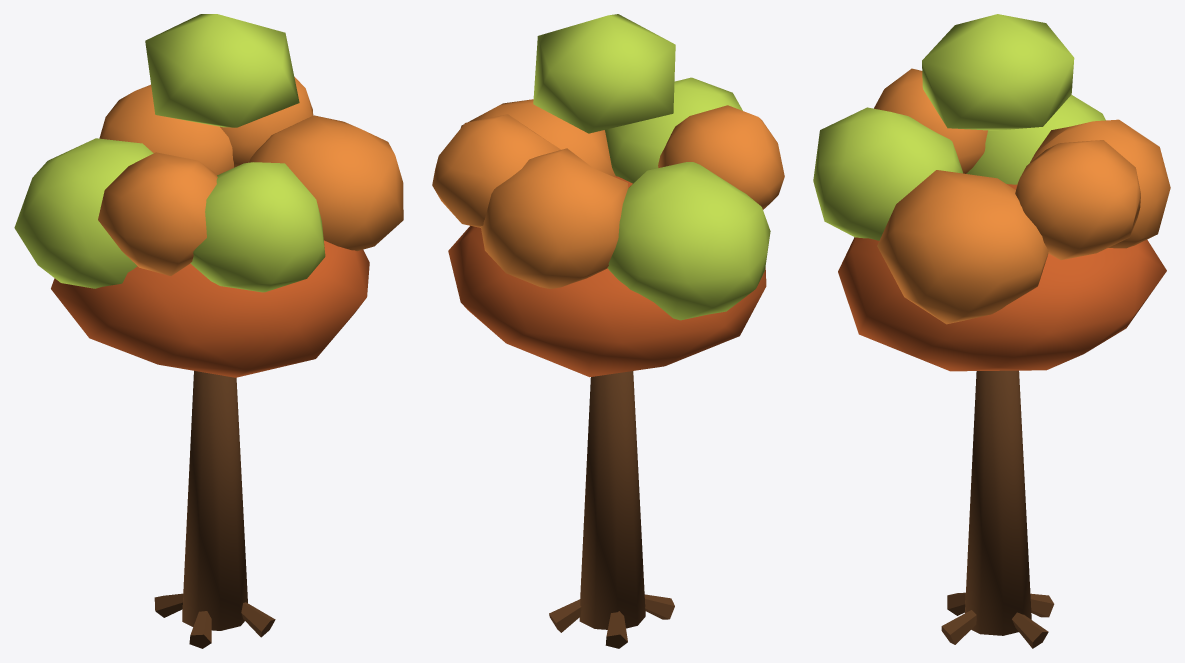
Rendered from hd_maple.gltf.
3 views of the same model, side by side, from view 1: azimuth 30°, elevation 25°; view 2: azimuth 150°, elevation 25°; view 3: azimuth 270°, elevation 25° (orthographic).
Visible parts, largest first — view 1: canopyDark, crown, trunk, can3, can0, can1, can5, can2, can4, root2, root3; view 2: canopyDark, can0, can2, trunk, crown, can5, can4, can3, can1, root1, root0, root2; view 3: canopyDark, can1, crown, trunk, can3, can4, can2, can0, can5, root3, root0.
Boxes of the visible parts, left/top/right/bottom form: canopyDark: left=51, top=240, right=369, bottom=377; crown: left=145, top=14, right=299, bottom=127; trunk: left=182, top=371, right=247, bottom=630; can3: left=190, top=162, right=325, bottom=292; can0: left=14, top=138, right=153, bottom=288; can1: left=249, top=115, right=403, bottom=251; can5: left=98, top=152, right=217, bottom=275; can2: left=99, top=84, right=233, bottom=175; can4: left=220, top=77, right=313, bottom=167; root2: left=189, top=611, right=211, bottom=648; root3: left=241, top=602, right=275, bottom=637; canopyDark: left=448, top=176, right=766, bottom=377; can0: left=607, top=162, right=770, bottom=320; can2: left=480, top=148, right=628, bottom=288; trunk: left=579, top=371, right=645, bottom=629; crown: left=533, top=14, right=675, bottom=133; can5: left=658, top=105, right=784, bottom=209; can4: left=432, top=114, right=561, bottom=227; can3: left=605, top=77, right=742, bottom=183; can1: left=461, top=99, right=615, bottom=176; root1: left=605, top=611, right=627, bottom=648; root0: left=549, top=599, right=581, bottom=632; root2: left=644, top=594, right=674, bottom=619; canopyDark: left=838, top=184, right=1166, bottom=371; can1: left=877, top=170, right=1048, bottom=324; crown: left=922, top=14, right=1074, bottom=130; trunk: left=965, top=370, right=1031, bottom=635; can3: left=813, top=107, right=963, bottom=240; can4: left=1015, top=140, right=1140, bottom=260; can2: left=1016, top=119, right=1170, bottom=248; can0: left=966, top=95, right=1105, bottom=184; can5: left=874, top=68, right=987, bottom=173; root3: left=941, top=610, right=976, bottom=644; root0: left=1012, top=612, right=1048, bottom=648.
Bounding box in the file's own units: 3.13 × 5.53 × 2.89.
